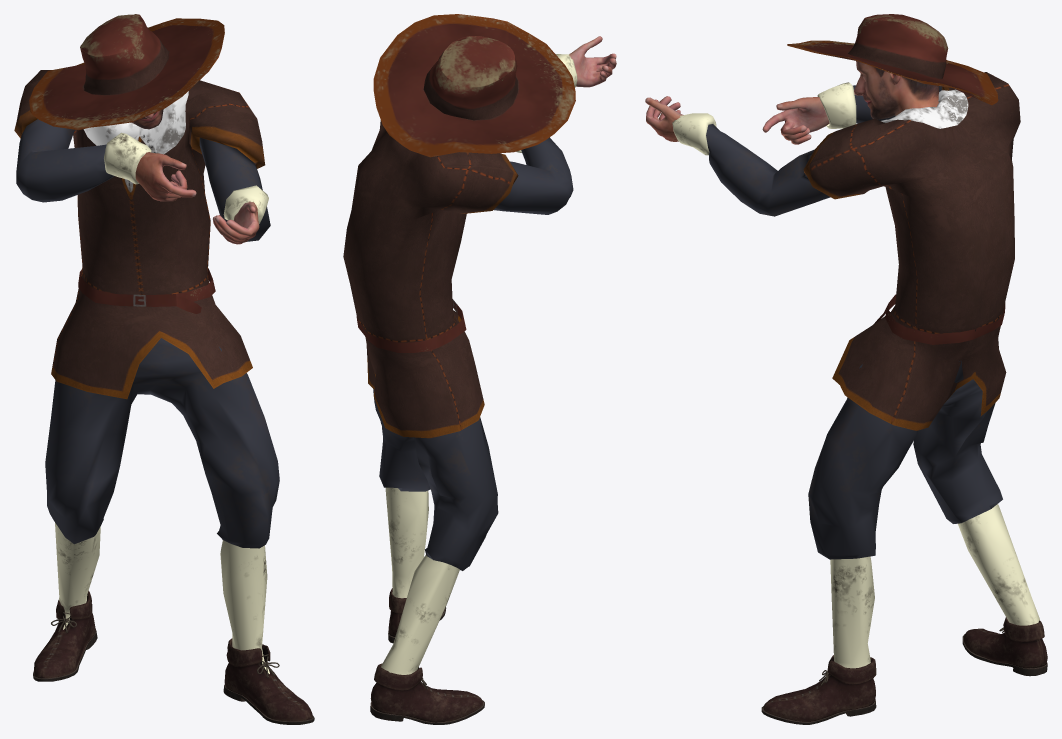
The model's file is IdleAimSoldierSample.fbx.
3 renders of one model, left to right at view 1: azimuth 30°, elevation 25°; view 2: azimuth 150°, elevation 25°; view 3: azimuth 270°, elevation 25°, orthographic. The views are drawn at different scales.
Visible parts, largest first — view 1: IdleAimLOD0; view 2: IdleAimLOD0; view 3: IdleAimLOD0.
Part boxes in pixels (x1=…): IdleAimLOD0: x1=14, y1=14, x2=314, y2=724; IdleAimLOD0: x1=343, y1=14, x2=616, y2=724; IdleAimLOD0: x1=645, y1=14, x2=1047, y2=724.
Size of what is drawn, in the model's own units: 63.54 by 178 by 99.75.
